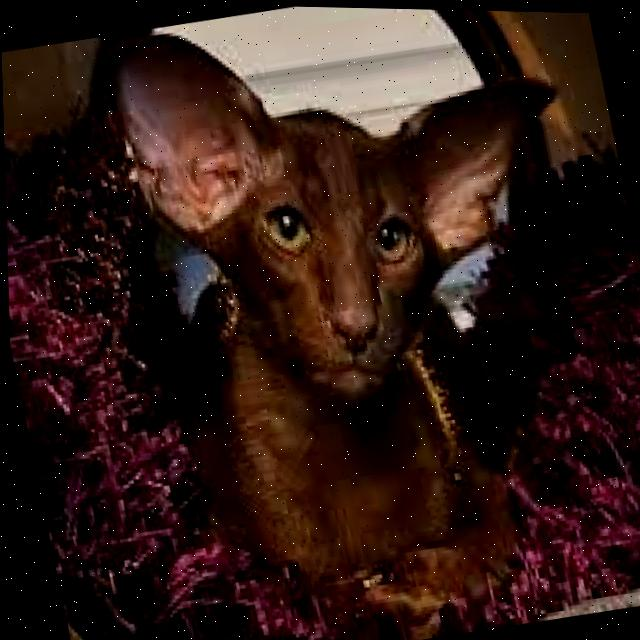Oriental: (85, 1, 640, 640)
